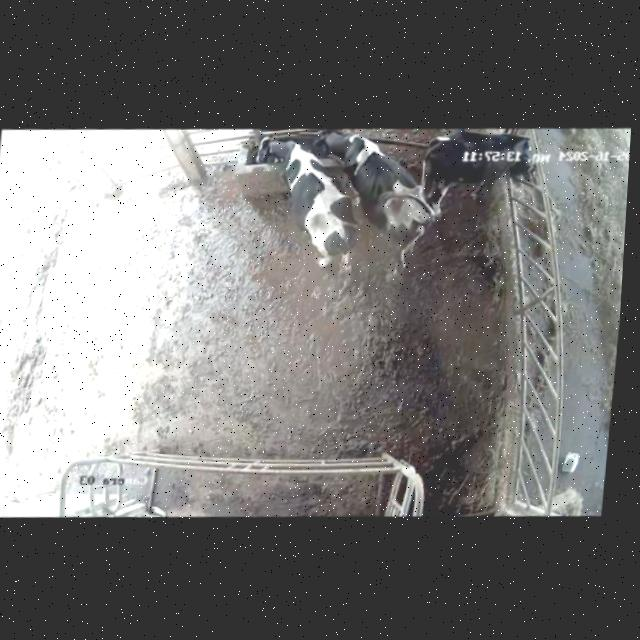drink: (250, 128, 316, 198), (318, 123, 372, 190)
eat: (480, 128, 590, 193)
